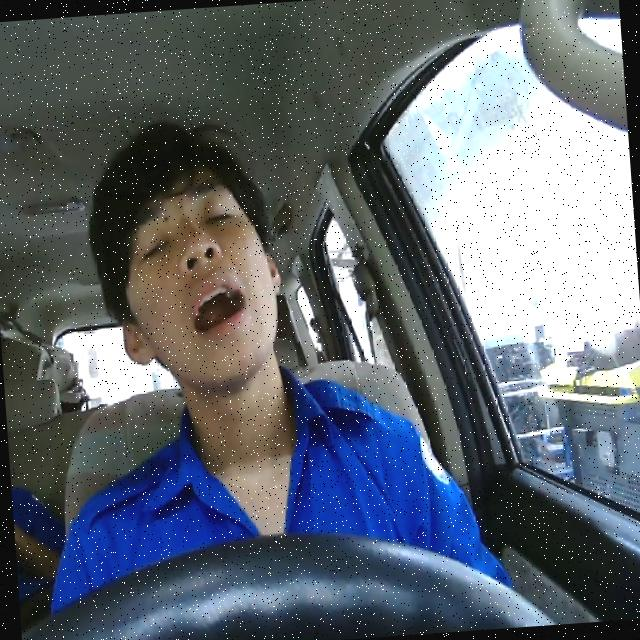yarning: (110, 168, 286, 398)
